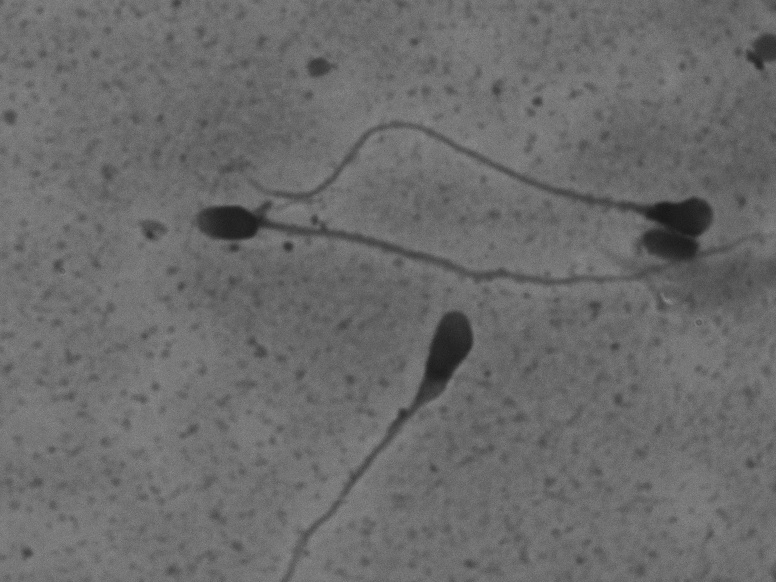Abnormal: (235, 92, 732, 242), (237, 303, 500, 576)
Normal: (176, 198, 766, 292)
